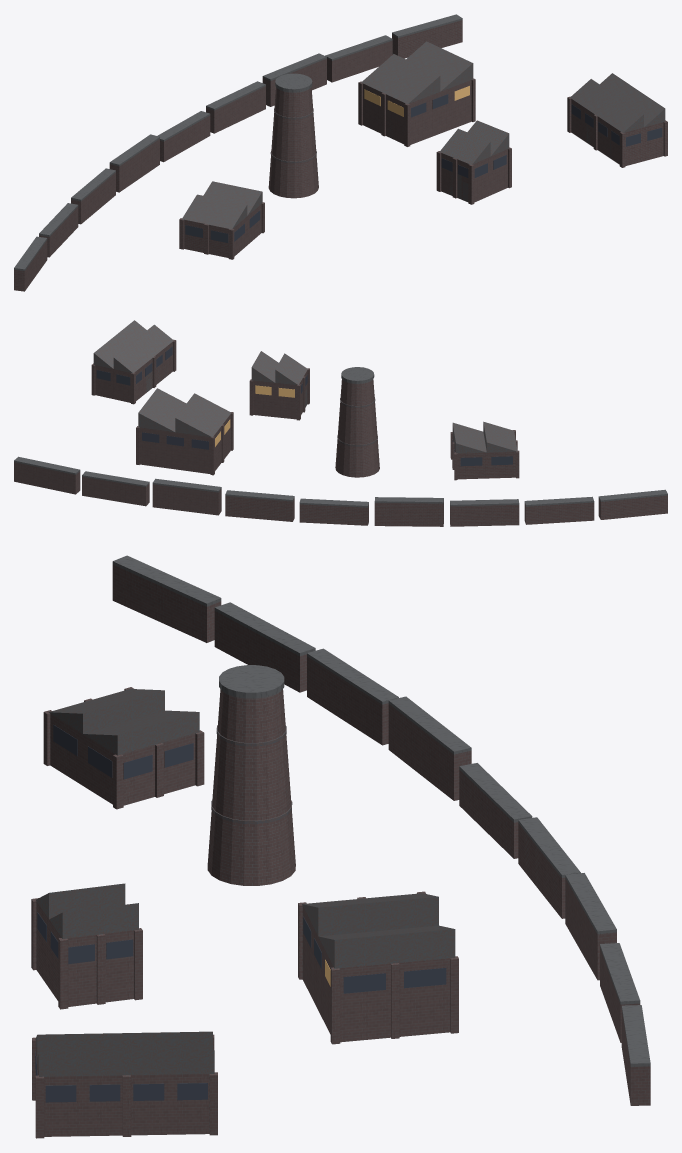
The model's file is SM_City_BaytAlDarb_2.fbx.
The picture shows the model from 3 angles, top to bottom: view 1: azimuth 30°, elevation 25°; view 2: azimuth 150°, elevation 25°; view 3: azimuth 270°, elevation 25°; orthographic projection. The views are drawn at different scales.
Parts seen in each view (by area): view 1: SM_City_BaytAlDarb_2; view 2: SM_City_BaytAlDarb_2; view 3: SM_City_BaytAlDarb_2.
Boxes of the visible parts, x1,y1,x2,y2 form: SM_City_BaytAlDarb_2: (14,14,667,291); SM_City_BaytAlDarb_2: (14,320,667,526); SM_City_BaytAlDarb_2: (31,555,650,1138).
Bounding box in the file's own units: 7730 × 1250 × 3722.
6 materials, 6 textured.
